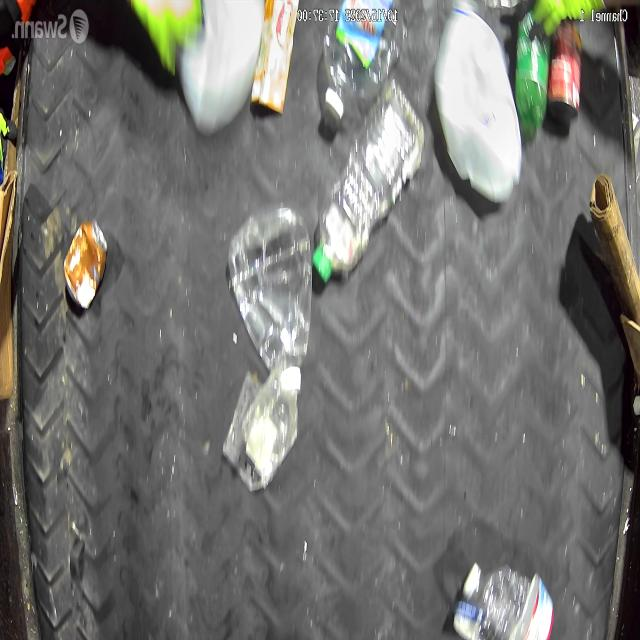can: (546, 17, 583, 118), (64, 222, 104, 302)
milk_jug: (438, 12, 519, 217)
plastic_bottle: (318, 78, 423, 274)
